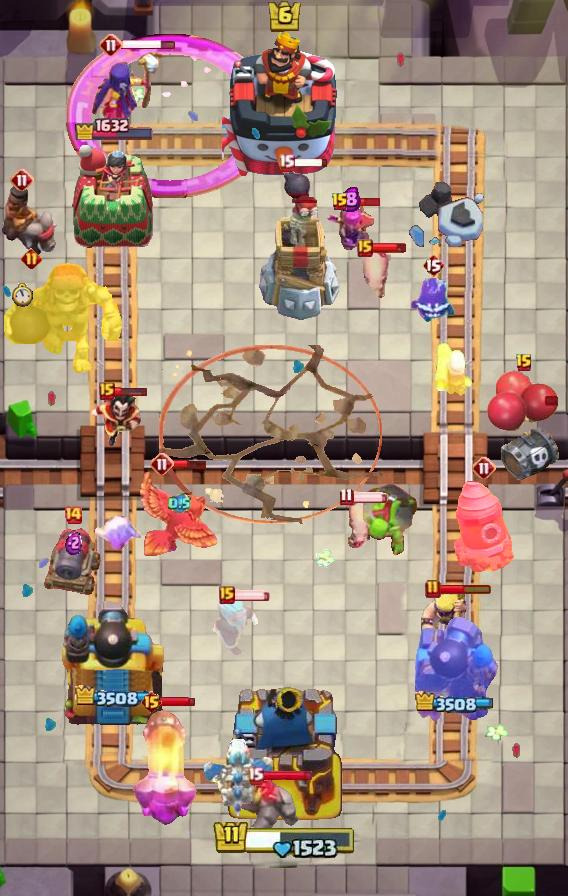arrows: (418, 589, 470, 639)
axe: (90, 50, 166, 124)
bar-level: (360, 479, 420, 555)
clock: (212, 816, 356, 858)
electro-giant: (0, 262, 124, 374)
electro-spirit: (339, 186, 361, 212), (168, 493, 191, 515), (66, 531, 83, 555)
elite-barbarian: (0, 182, 62, 258)
elixir: (11, 283, 32, 307)
emote: (120, 37, 175, 50), (262, 769, 313, 782), (440, 583, 493, 595), (351, 491, 389, 503), (233, 589, 271, 601), (346, 196, 382, 208), (371, 242, 407, 254), (160, 696, 196, 708), (112, 385, 147, 397), (292, 157, 329, 168), (172, 458, 208, 469)
evolution-symbol: (325, 198, 375, 254)
furnace: (132, 707, 200, 827)
giant: (357, 244, 391, 302), (342, 495, 376, 551)
golden-knight: (138, 469, 220, 557)
guard: (159, 344, 383, 524)
king-tower: (222, 31, 346, 181), (223, 680, 345, 826)
knight-evolution: (67, 34, 274, 198)
lumberjack: (88, 390, 144, 448)
magic-archer: (454, 479, 514, 573)
mini-pekka: (201, 739, 275, 823)
mirror: (91, 514, 141, 552)
mortar: (205, 592, 267, 658)
queen-tower: (71, 144, 157, 255)
royal-giant-evolution: (44, 526, 102, 596)
royal-recruit-evolution: (486, 369, 562, 481)
selected: (73, 115, 154, 140), (413, 690, 493, 714), (73, 685, 155, 708)
spear-goblin: (407, 278, 459, 322)
text: (99, 33, 123, 57), (10, 168, 34, 192), (150, 452, 174, 476), (472, 456, 496, 480), (141, 690, 164, 714), (422, 253, 444, 277), (21, 247, 43, 268), (63, 505, 83, 525), (331, 192, 349, 212), (515, 353, 533, 373), (277, 153, 295, 172), (247, 766, 264, 785), (425, 579, 441, 599), (357, 239, 373, 257), (99, 382, 115, 400), (219, 586, 235, 604), (339, 486, 353, 505)
tombstone: (433, 340, 475, 398)
tower-bar: (58, 595, 170, 731), (403, 615, 503, 731)
valkyrie-evolution: (234, 778, 302, 848)
zappy: (256, 164, 343, 322)
